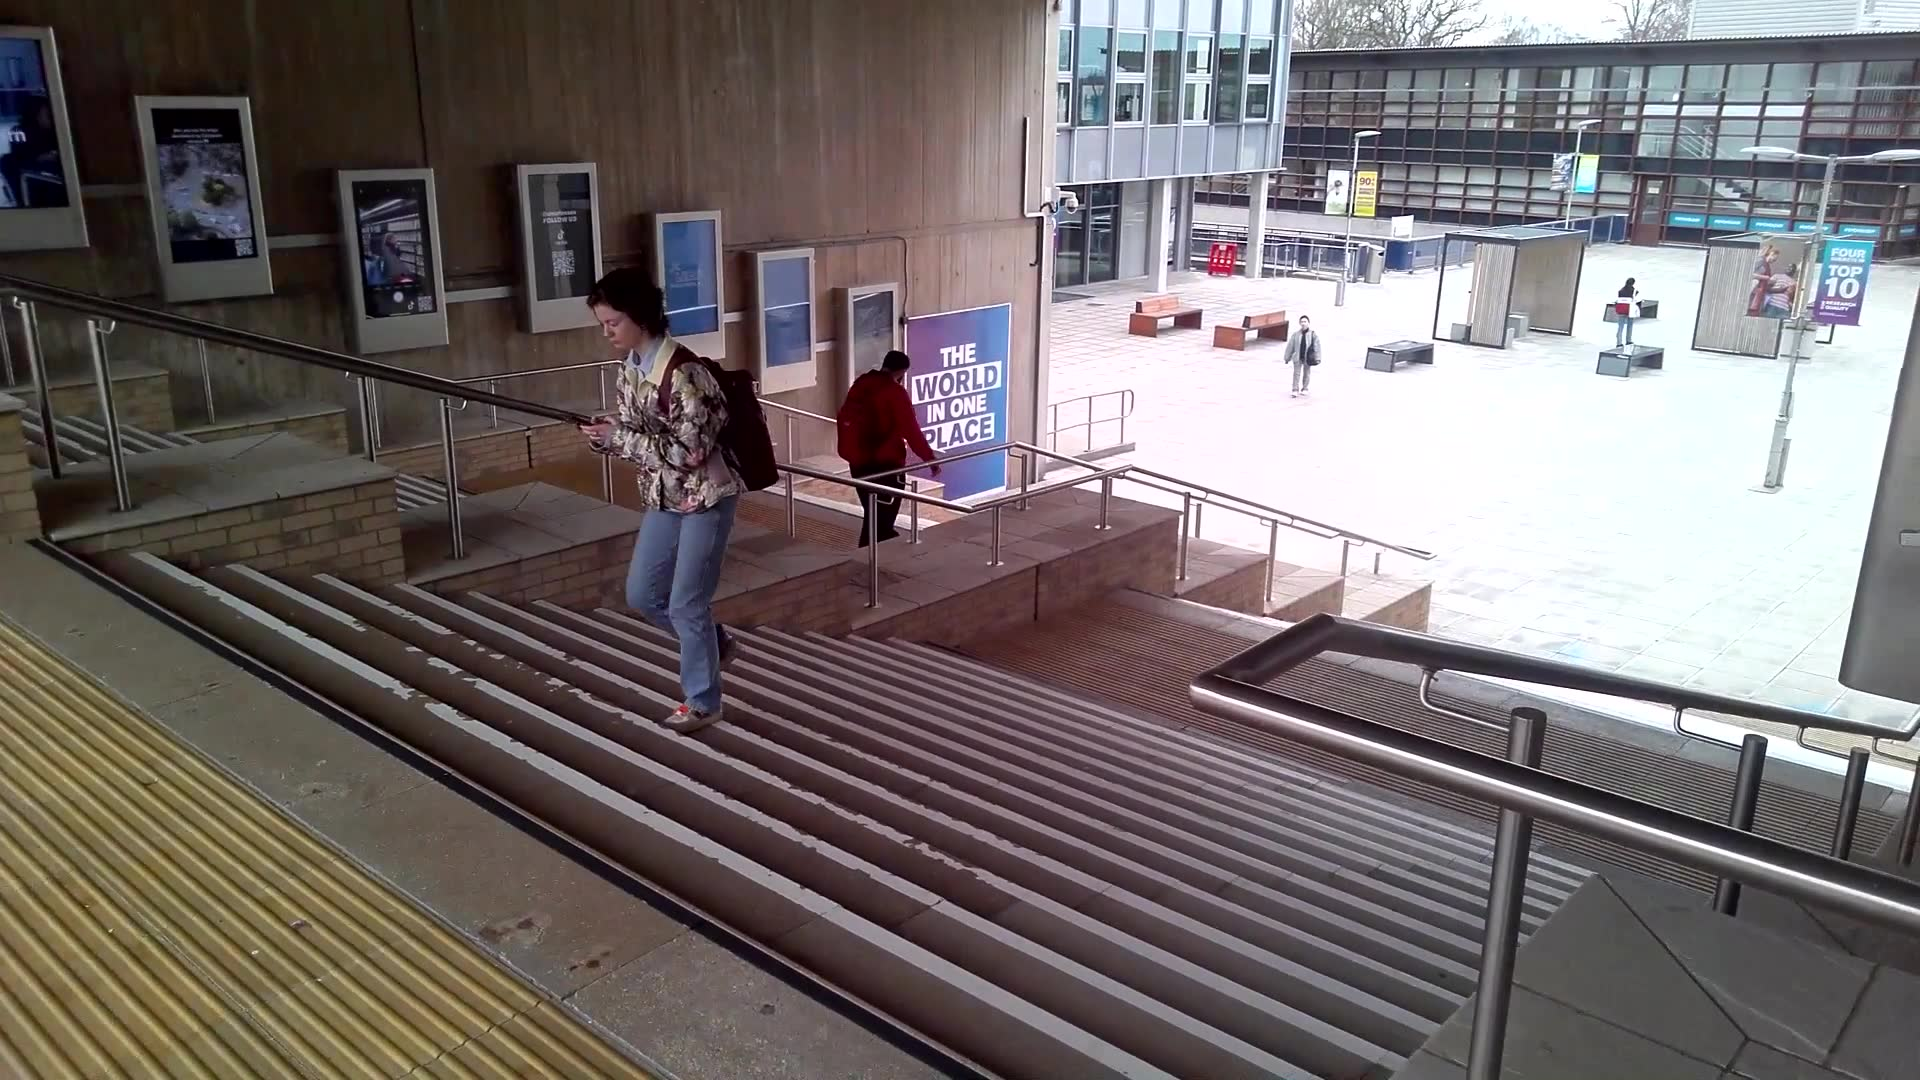Backpack: (713, 357, 782, 490), (833, 386, 884, 477)
Bench: (1129, 291, 1209, 335), (1360, 333, 1440, 375), (1216, 309, 1285, 354), (1596, 346, 1666, 378)
Person: (580, 265, 717, 729), (869, 346, 932, 547), (1286, 313, 1329, 397), (1618, 273, 1637, 341)
Stairs: (98, 593, 1498, 1080)
